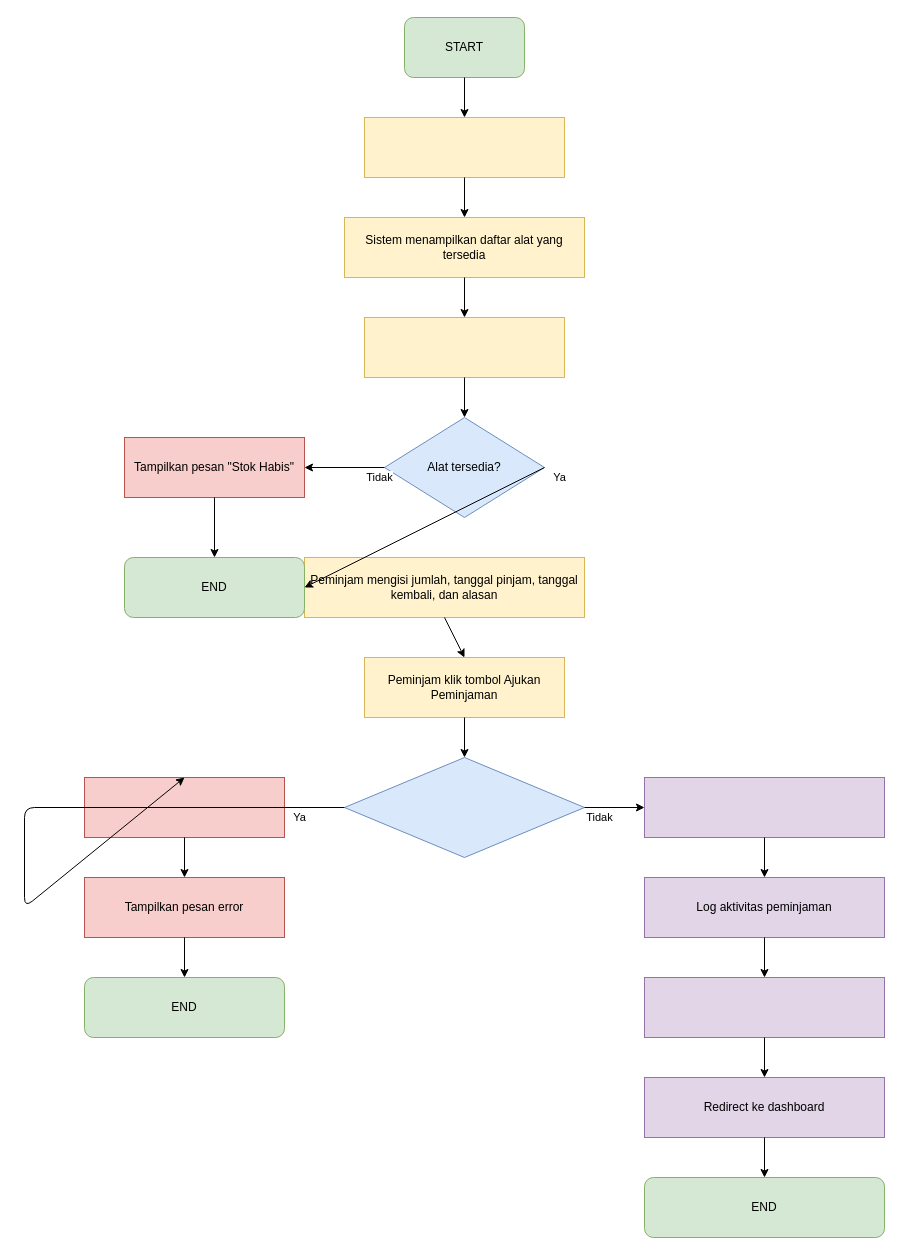
The diagram is 902 pixels wide and 1255 high, and some of its shapes have lost their labels. Here are the shapes that lost their labels. From the top down, the box of each, then its label:
(364, 116, 564, 178): Peminjam membuka halaman peminjaman
(364, 316, 564, 378): Peminjam memilih alat yang ingin dipinjam
(84, 776, 284, 838): Jumlah melebihi stok?
(344, 756, 584, 858): Sistem validasi jumlah tidak melebihi stok
(644, 776, 884, 838): Buat data peminjaman dengan status "pending"
(644, 976, 884, 1038): Tampilkan pesan sukses
